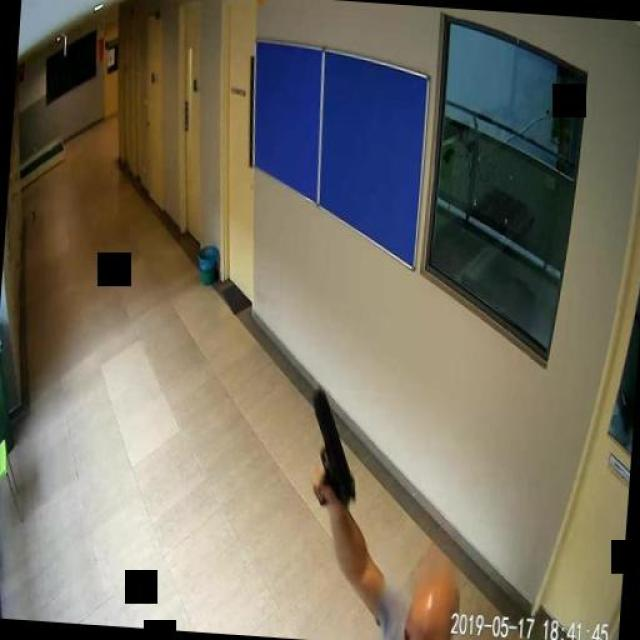gun: (304, 386, 361, 506)
